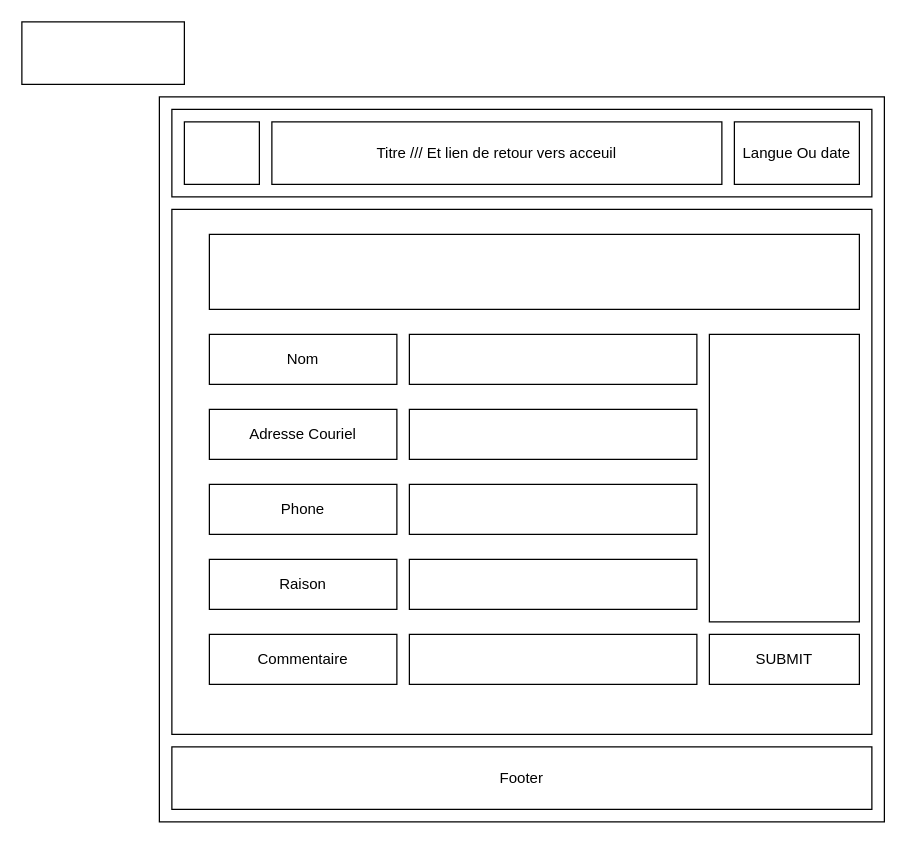
Image size: 906x844. Some labels were removed from this diagram. The shapes that lost their labels are listed below. From the top down, each one's box as (x1, y1, x2, y2) in pixels, then its label:
(21, 21, 184, 84): ARNOLD
(183, 121, 259, 184): Nav /DropDown
(208, 233, 859, 309): Contacter Nous
(708, 333, 859, 622): IMG DE GROS PENIS
